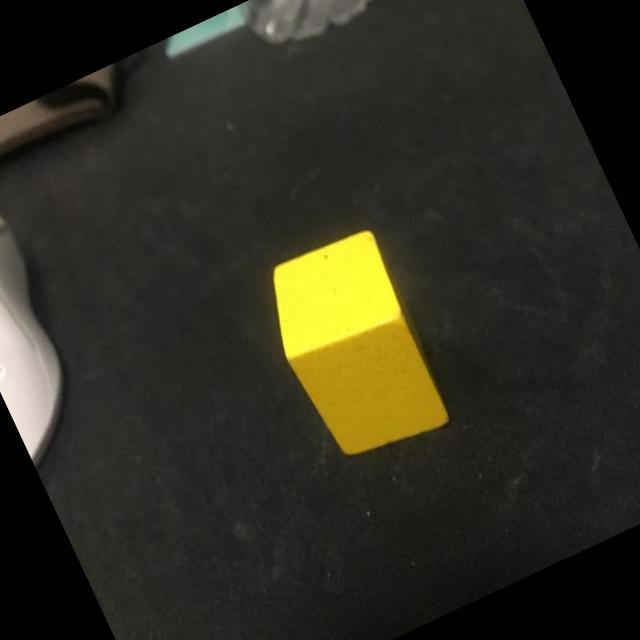yellow: (250, 222, 461, 472)
